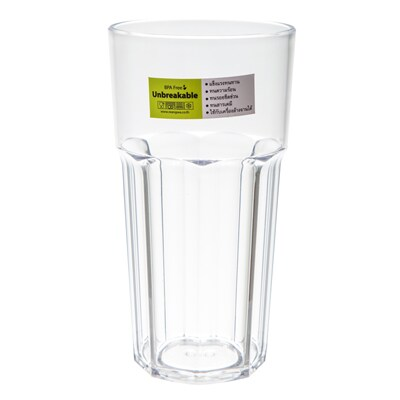plastic_bottle: (103, 13, 299, 386)
